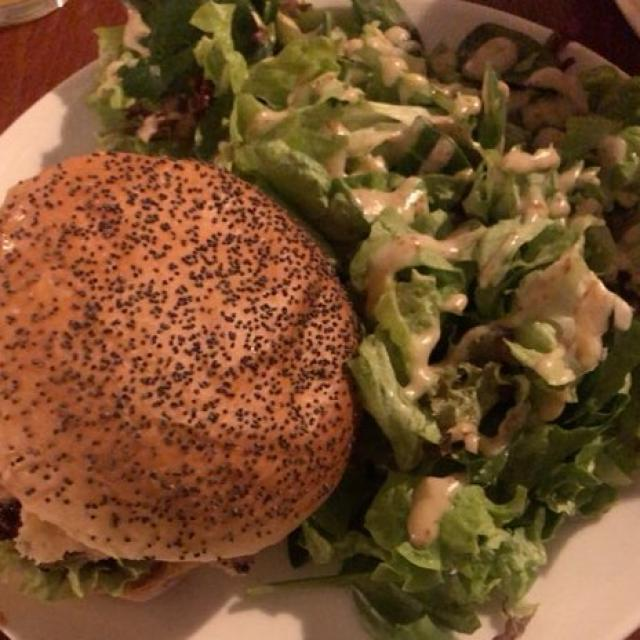hamburger-bread-meat-ketchup: (0, 138, 361, 611)
oil-vinegar-salad-dressing: (250, 19, 593, 509)
salad-leaf-salad-green: (108, 16, 622, 627)
